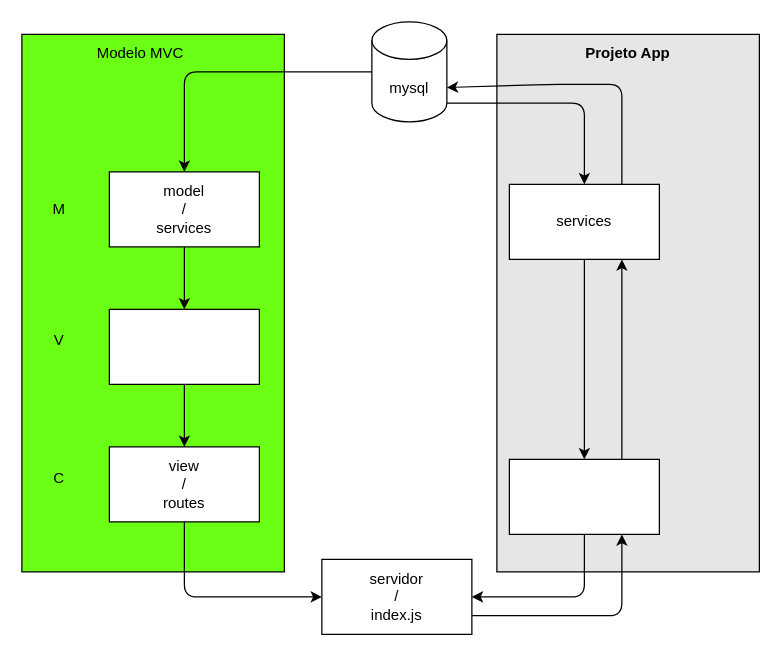
Image size: 781x656. Some labels were removed from this diagram. Here are the shapes that lost their labels. From the top down, the centre of each, then its label:
At point (183, 346): "controller / conrollers".
At point (583, 496): "routes".
